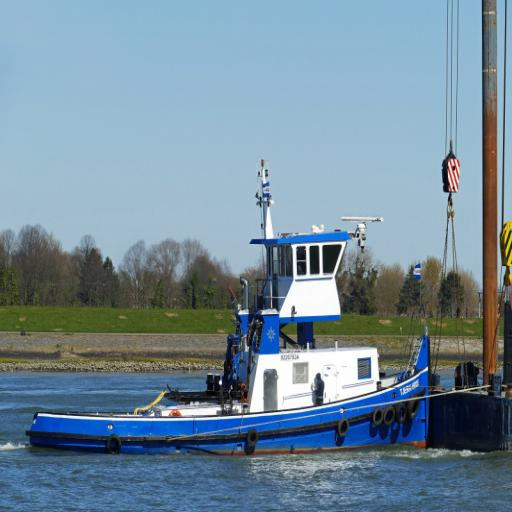tugboat: (22, 157, 433, 463)
